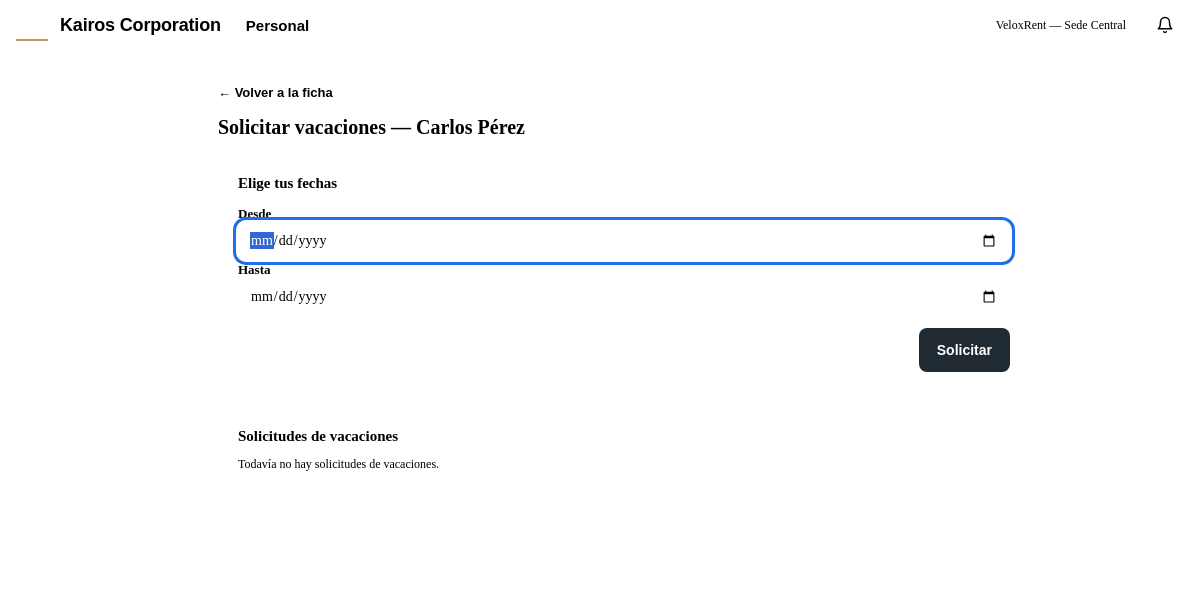
Scenario: VacationScreen (ADP-05) › si el servidor responde conflicto al enviar (carrera) muestra el mismo mensaje
The image size is (1190, 610).
Type "2026-12-01" into the date field labelled "Desde" at [624, 241], box [238,222,1010,260]
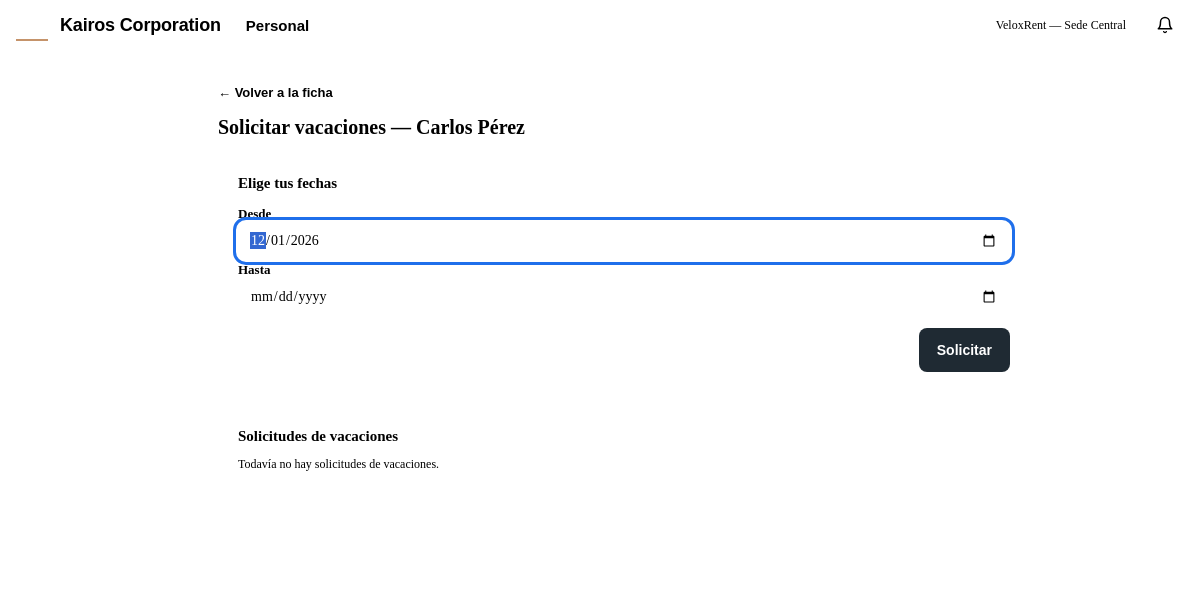
Type "2026-12-10" into the date field labelled "Hasta" at [624, 297], box [238,278,1010,316]
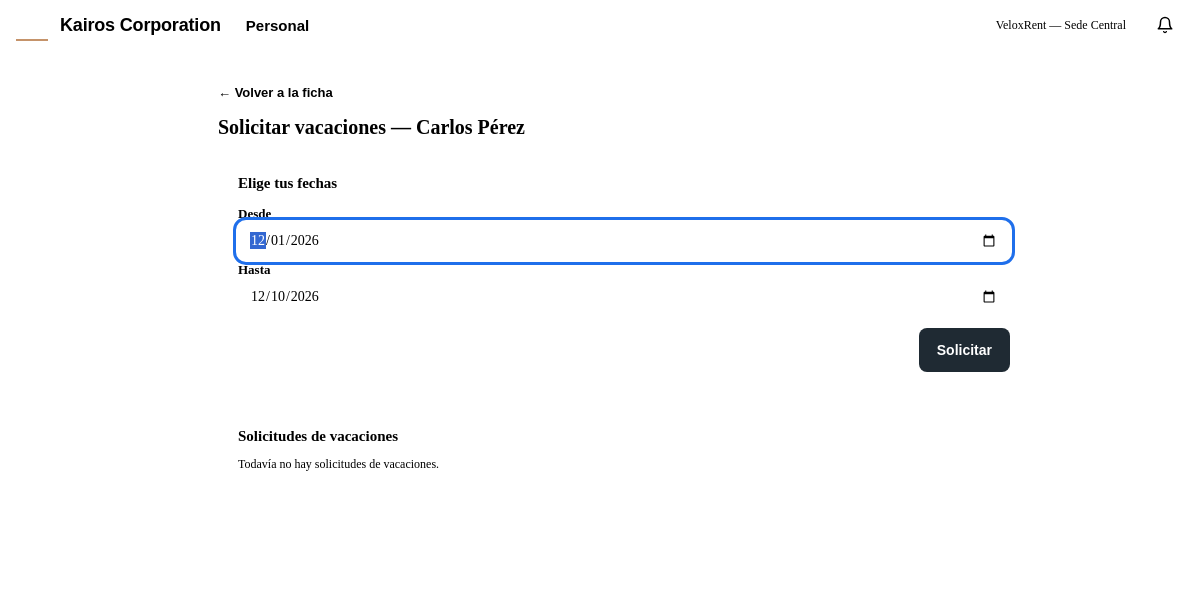
Click the button "Solicitar" at [964, 350], box [919,328,1010,372]
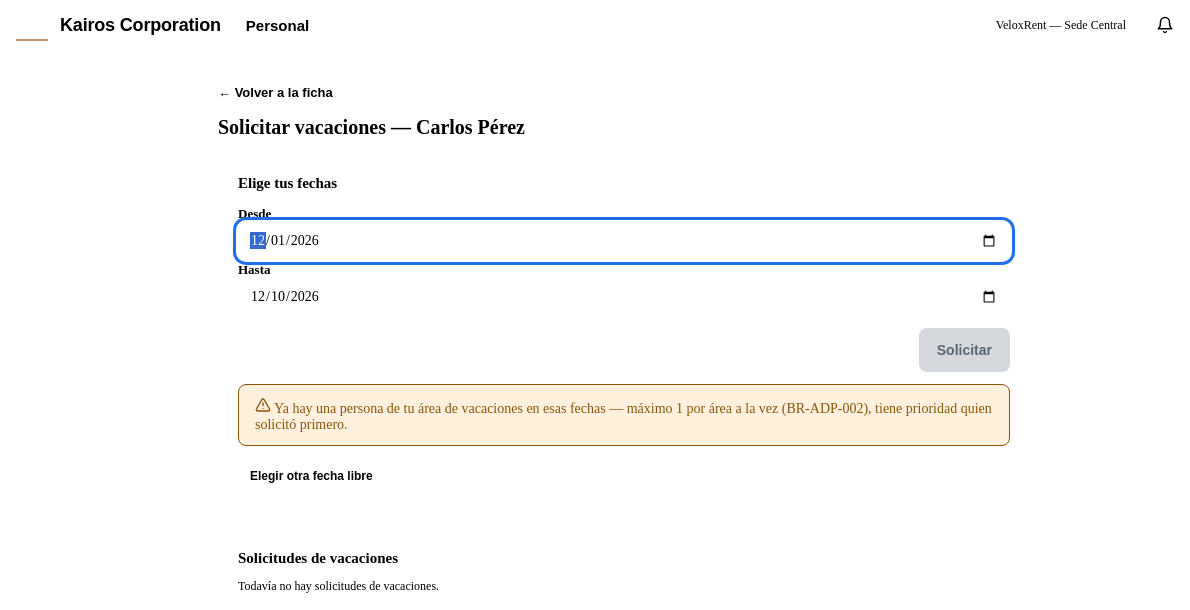
Now the message shows "Ya hay una persona de tu área de vacaciones en esas fechas — máximo 1 por área a la vez (BR-ADP-002), tiene prioridad quien solicitó primero", box [255,401,992,432]
